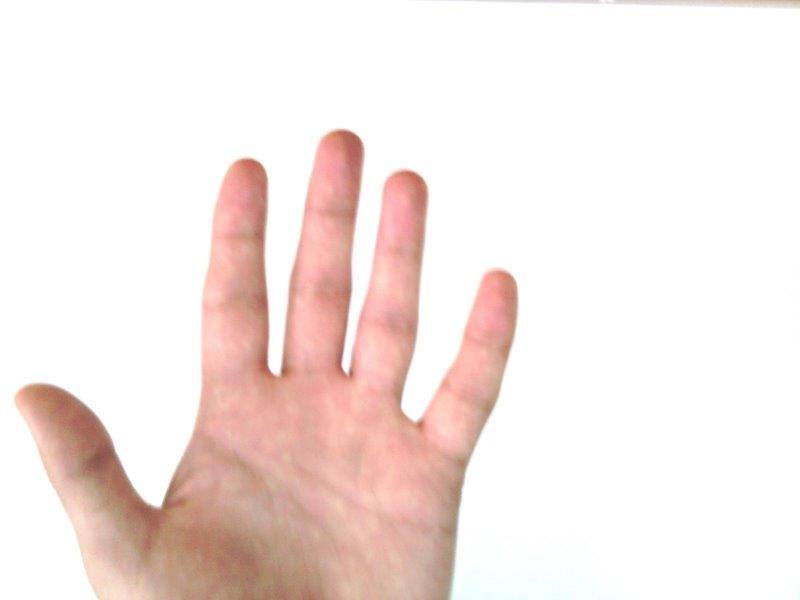hand: (15, 131, 516, 596)
